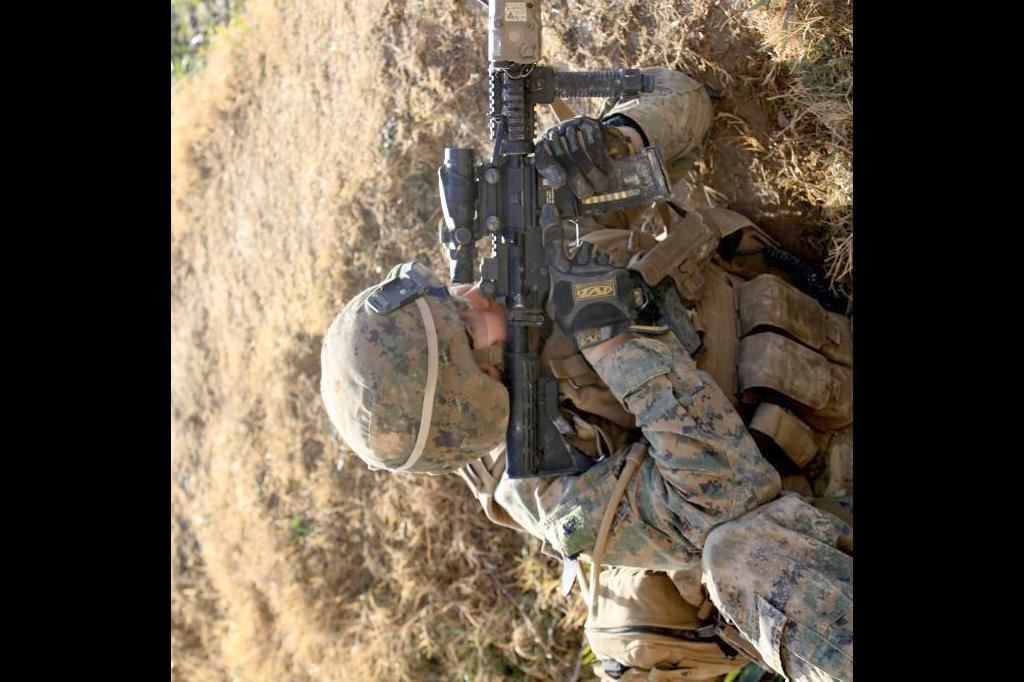gun: (424, 0, 672, 477)
